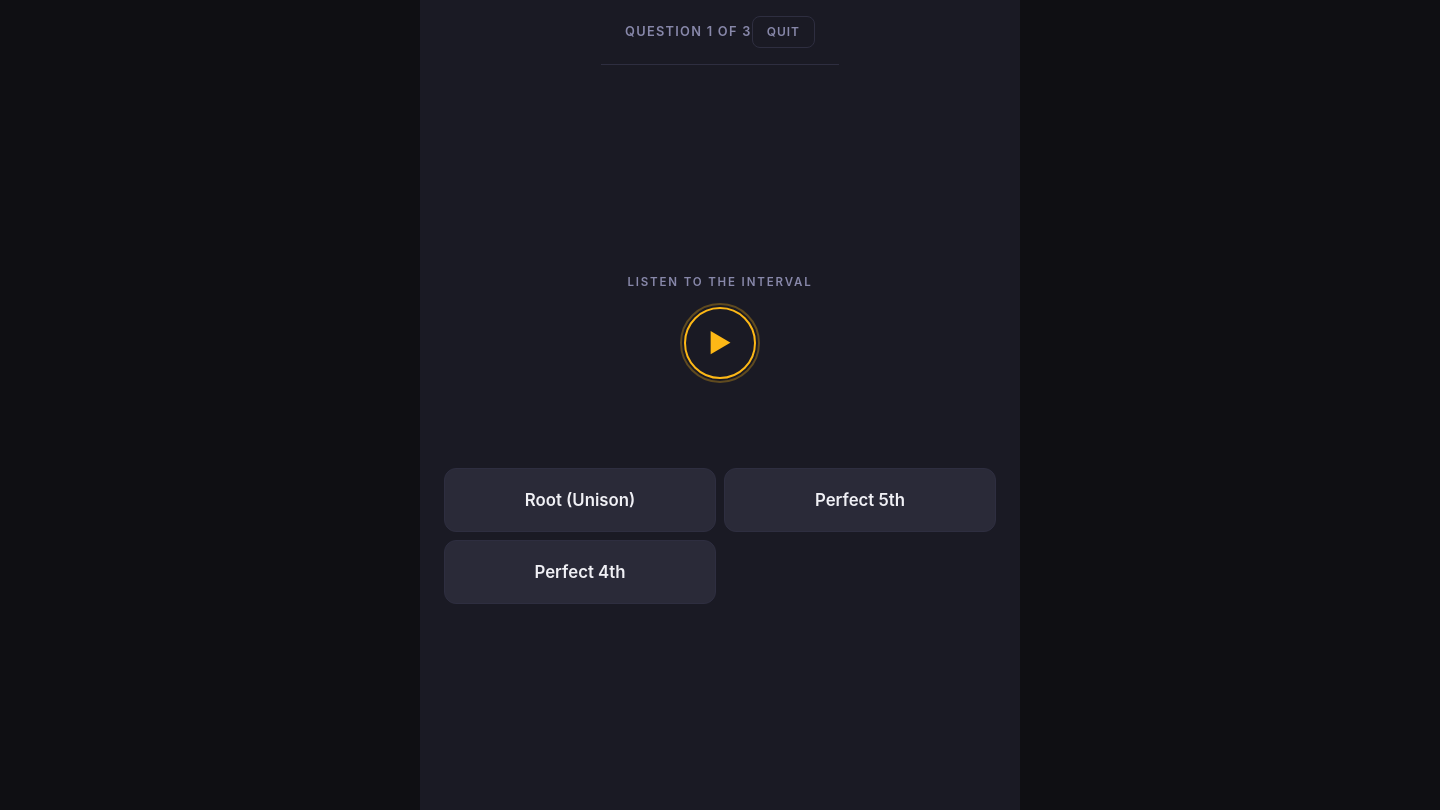
it: quit modal › shows quit confirmation modal when Quit clicked
Click the button with test id "quit-btn" at (783, 32), box [752,16,815,48]
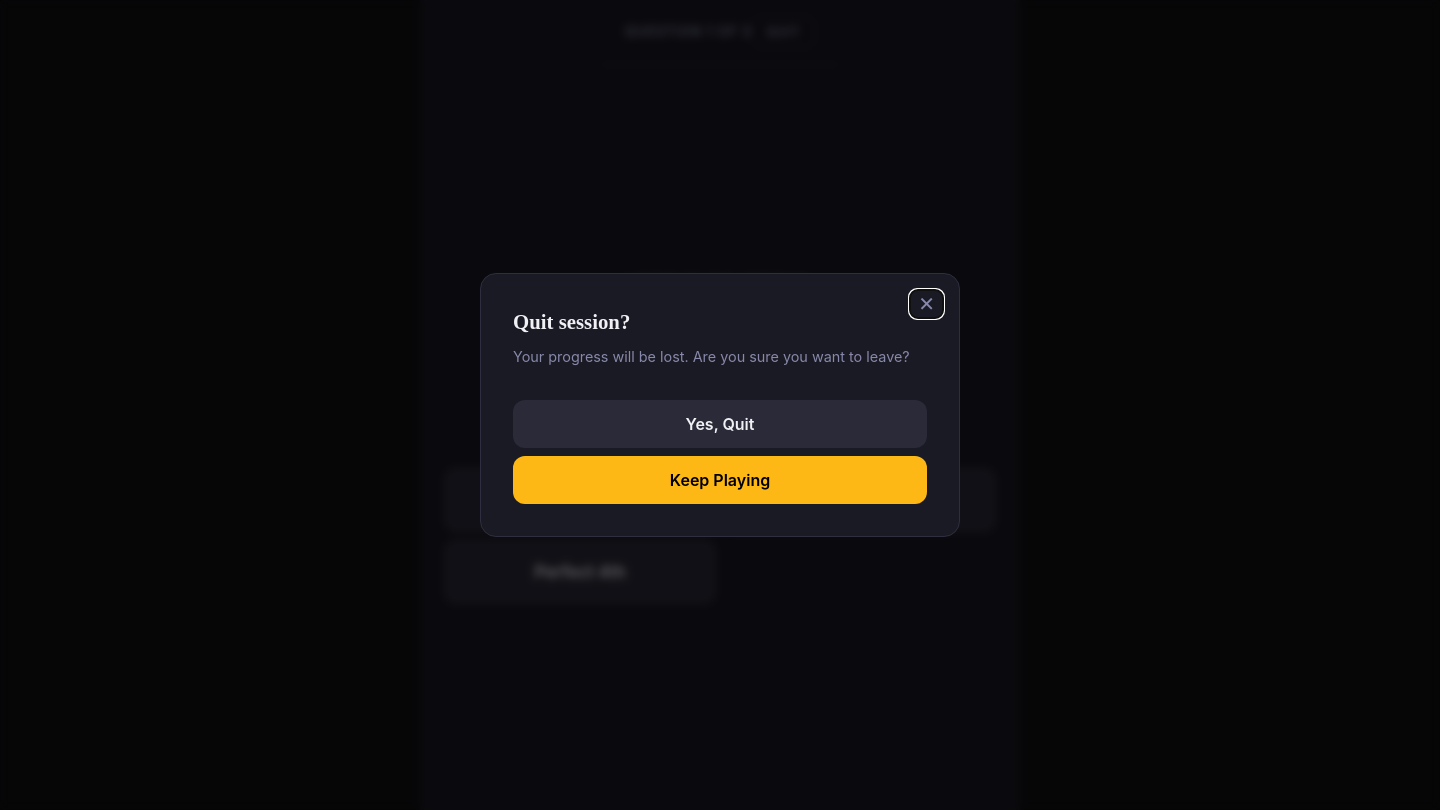
Result: the text "Quit session?" is shown at [513,310,630,333]
